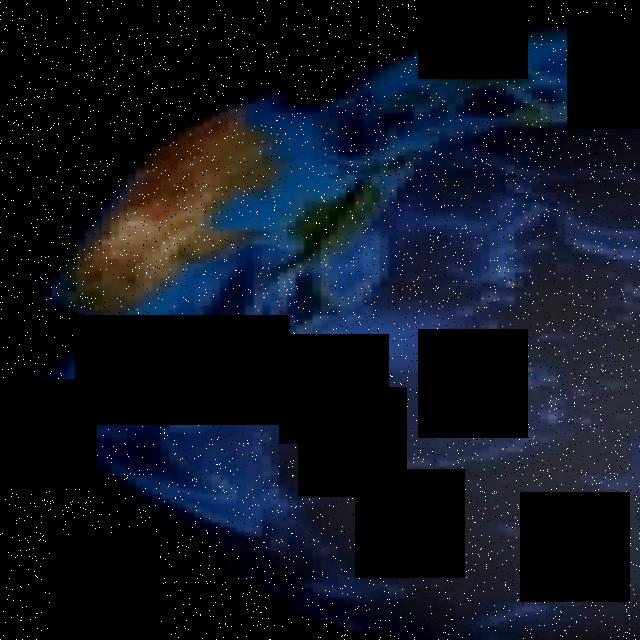Earth: (17, 28, 640, 640)
